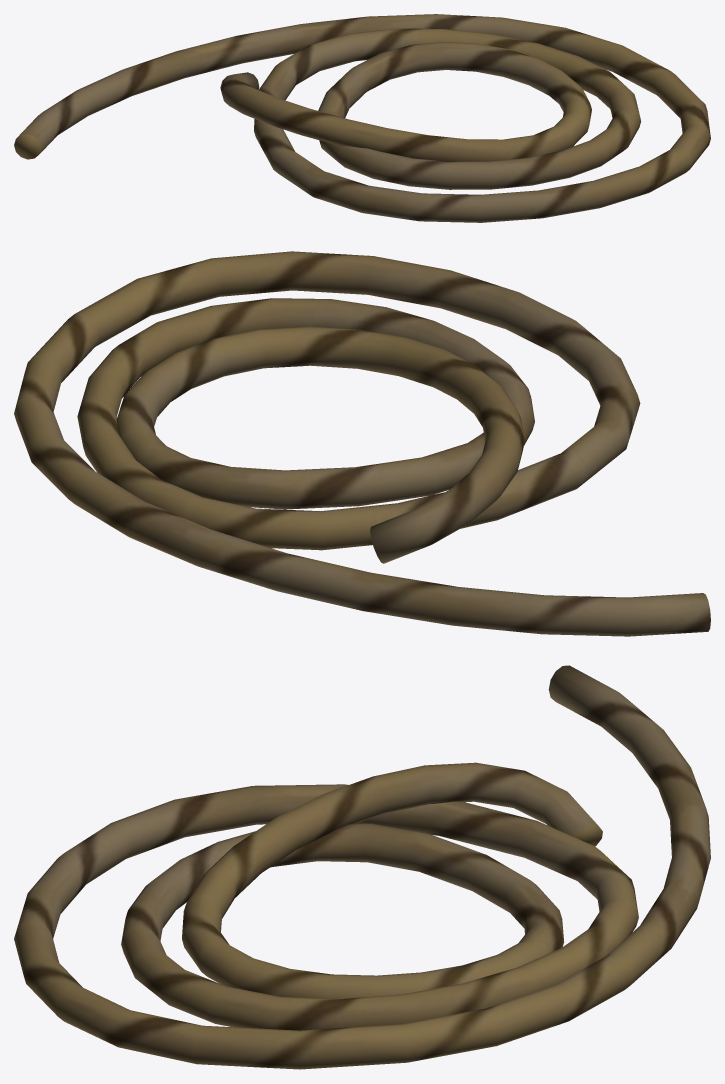
Rendered from Rope_3.gltf.
3 renders of one model, top to bottom at view 1: azimuth 30°, elevation 25°; view 2: azimuth 150°, elevation 25°; view 3: azimuth 270°, elevation 25°, orthographic. The views are drawn at different scales.
Visible parts, largest first — view 1: Rope_3; view 2: Rope_3; view 3: Rope_3.
Part boxes in pixels (x1,y1,x2,y2): Rope_3: (14,14,710,222); Rope_3: (14,251,710,636); Rope_3: (14,665,710,1069).
Size of the model in its own units: 1.23 by 0.1018 by 0.9508.
1 material, 1 textured.
